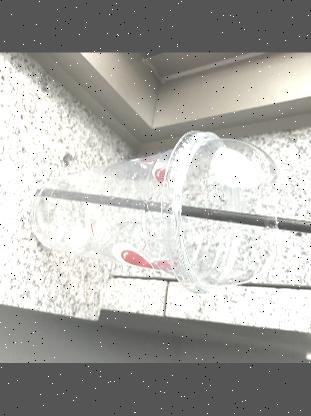Others: (28, 130, 282, 296), (162, 131, 287, 298), (45, 187, 311, 241)
